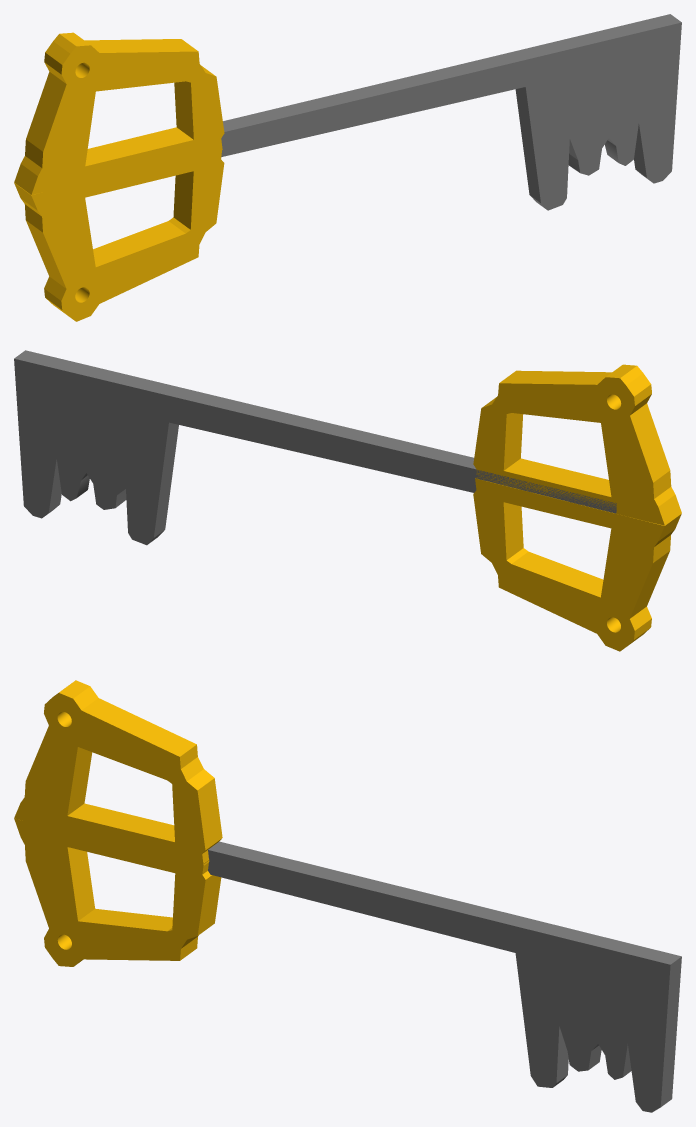
The model's file is RandomKeyOverDoor.fbx.
3 renders of one model, top to bottom at view 1: azimuth 30°, elevation 25°; view 2: azimuth 150°, elevation 25°; view 3: azimuth 330°, elevation 25°, orthographic.
Visible parts, largest first — view 1: Line003; view 2: Line003; view 3: Line003.
Part boxes in pixels (bbox=[...]): Line003: bbox=[14, 14, 681, 321]; Line003: bbox=[14, 350, 681, 651]; Line003: bbox=[14, 680, 681, 1112].
Size of the model in its own units: 417 by 173 by 19.21.
